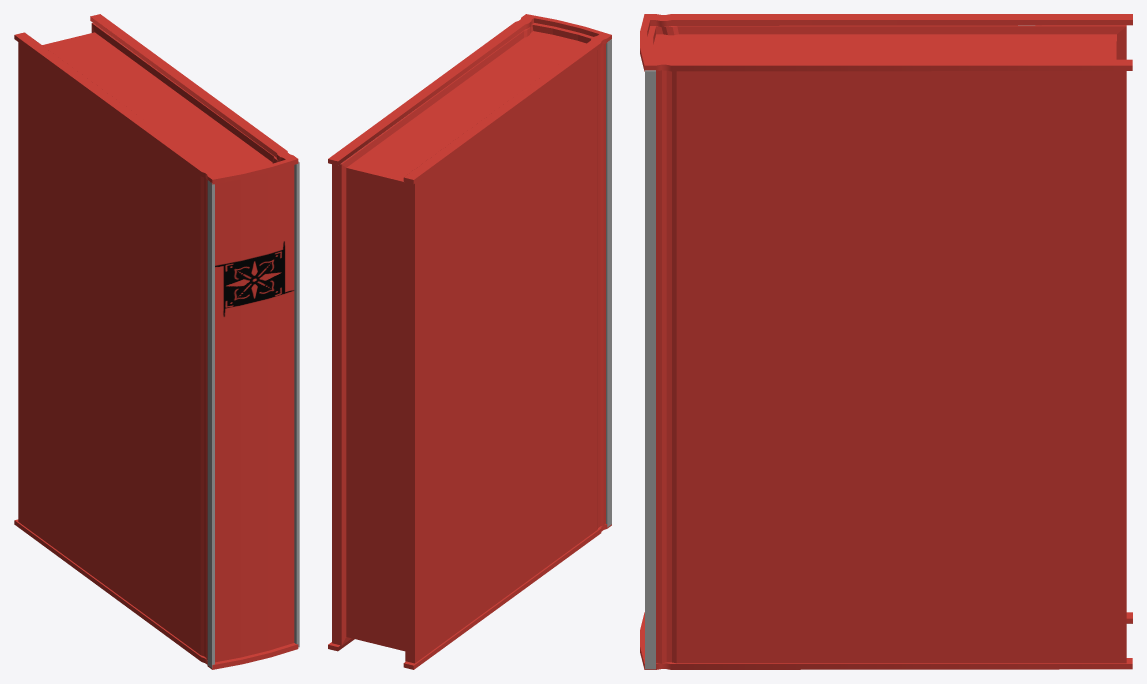
The model's file is ghost_book.fbx.
The picture shows the model from 3 angles, left to right: view 1: azimuth 30°, elevation 25°; view 2: azimuth 150°, elevation 25°; view 3: azimuth 270°, elevation 25°; orthographic projection. The views are drawn at different scales.
Parts seen in each view (by area): view 1: Architexture, polySurface1, pCube2, pCube1, polySurface2; view 2: Architexture, polySurface1, pCube2, polySurface2; view 3: Architexture, polySurface1, pCube1, polySurface2.
Boxes of the visible parts, x1,y1,x2,y2 form: Architexture: [18, 23, 294, 662]; polySurface1: [14, 14, 298, 184]; pCube2: [207, 180, 214, 668]; pCube1: [294, 161, 299, 647]; polySurface2: [14, 519, 298, 669]; Architexture: [332, 23, 605, 663]; polySurface1: [328, 14, 611, 184]; pCube2: [606, 39, 611, 527]; polySurface2: [328, 524, 611, 669]; Architexture: [647, 25, 1126, 663]; polySurface1: [640, 14, 1132, 71]; pCube1: [645, 70, 655, 669]; polySurface2: [640, 612, 1132, 669].
Size of the model in its own units: 2.85 by 15.28 by 11.29.
